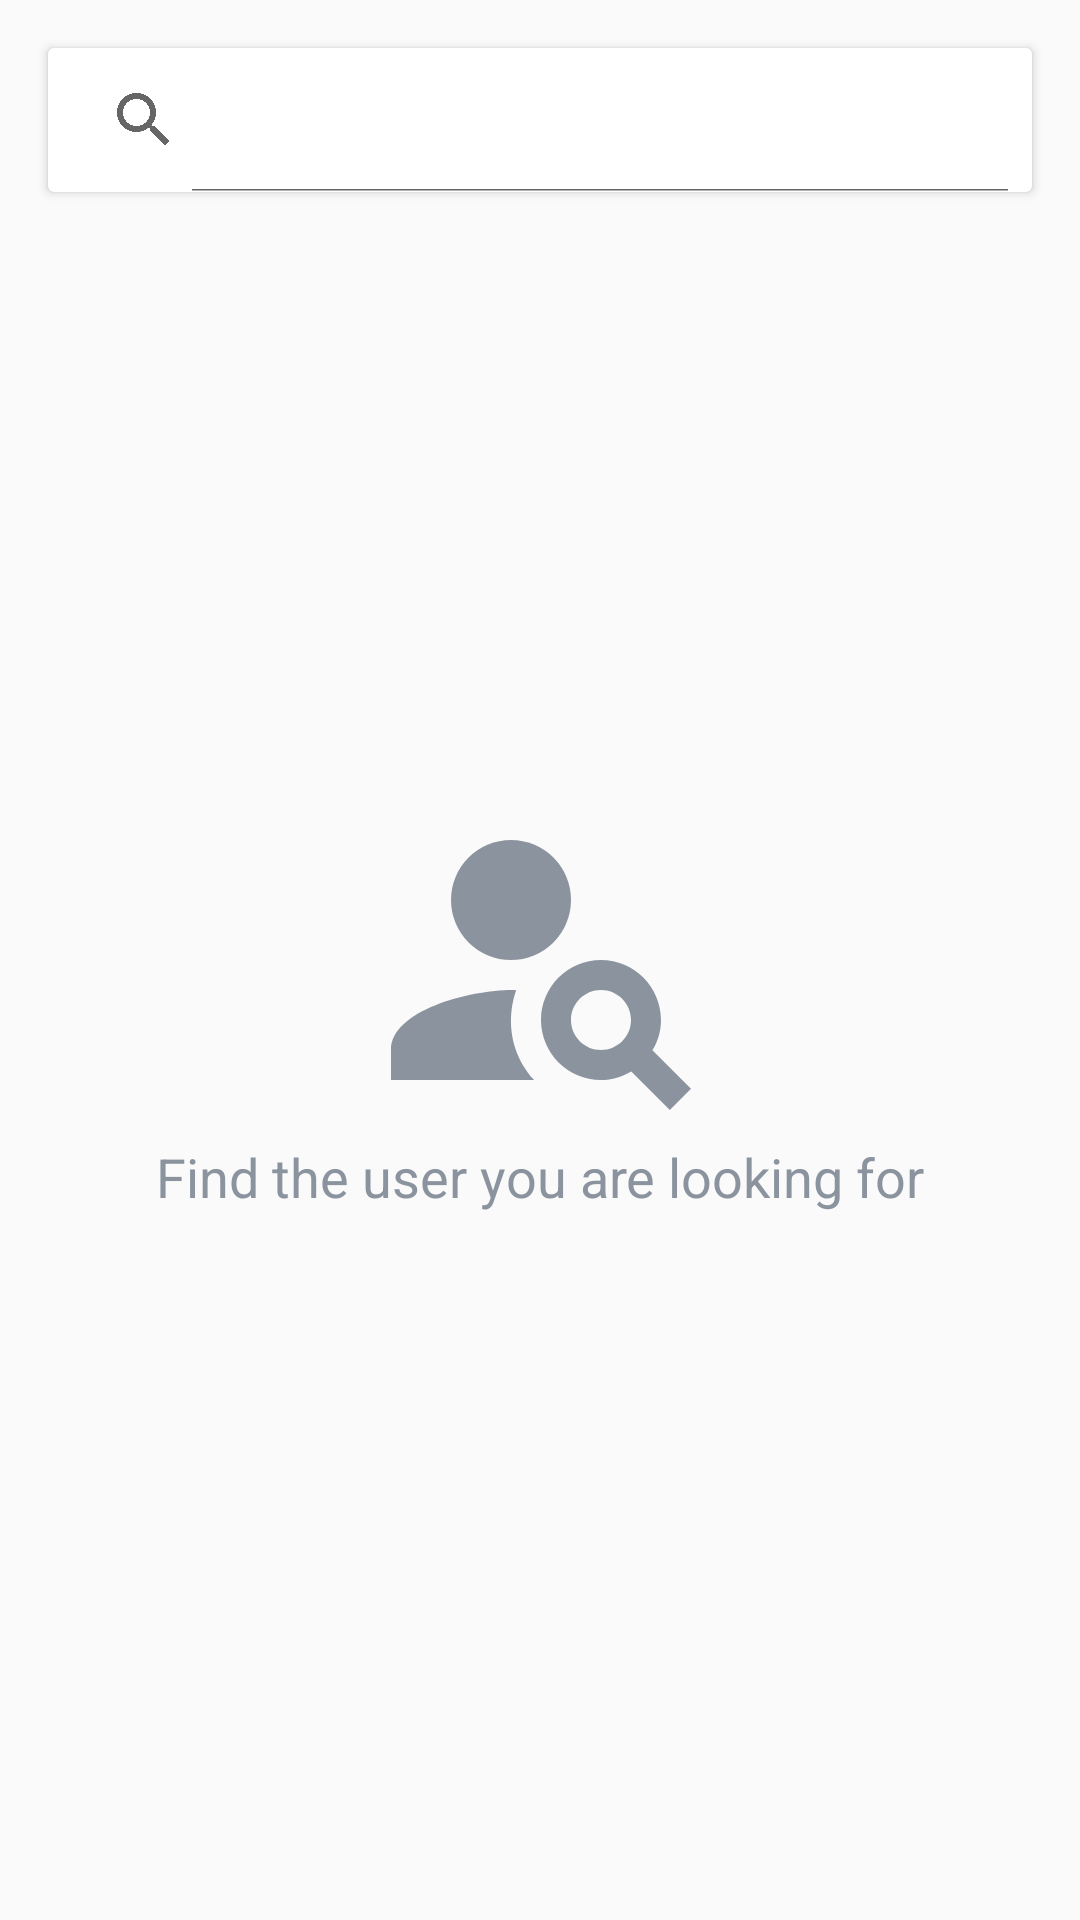

Point at icon controls on the screen. Image size 1080*1920, points as (x=x, y=y).
search user: (x=541, y=975)
